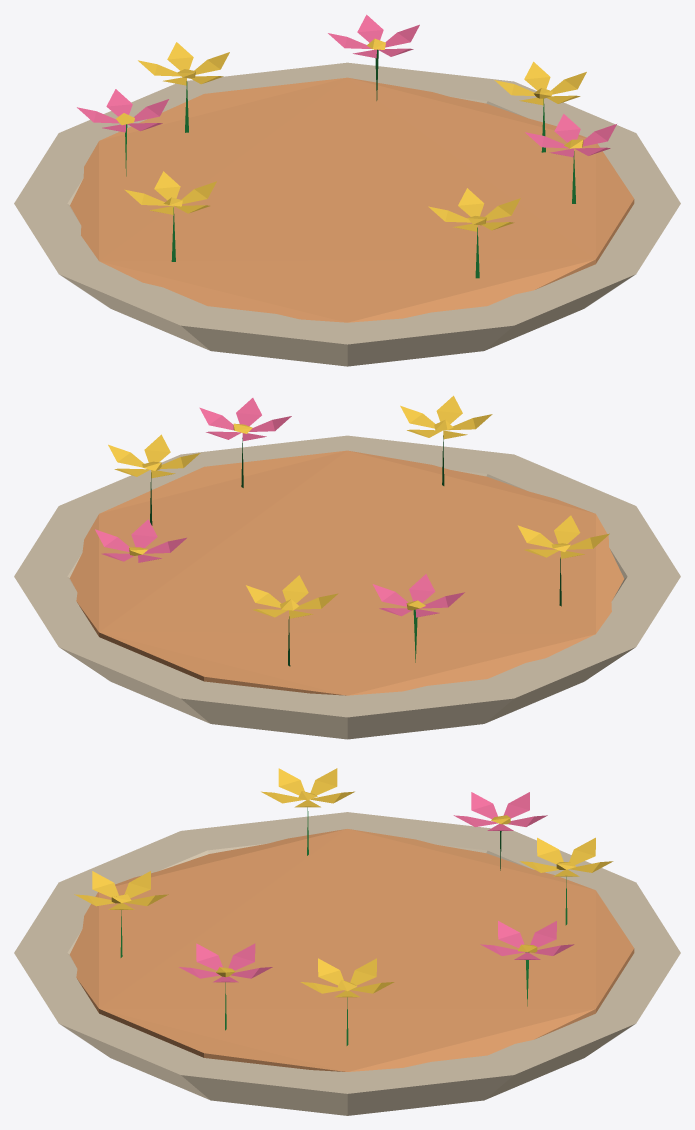
Rendered from flower_bed_round.fbx.
3 views of the same model, one above another, from view 1: azimuth 30°, elevation 25°; view 2: azimuth 150°, elevation 25°; view 3: azimuth 270°, elevation 25° (orthographic).
Visible parts, largest first — view 1: flower_bed_round; view 2: flower_bed_round; view 3: flower_bed_round.
Boxes of the visible parts, <box> form: flower_bed_round: <box>14,14,680,366</box>; flower_bed_round: <box>14,395,680,739</box>; flower_bed_round: <box>14,768,680,1115</box>.
Size of the model in its own units: 3 by 0.6 by 3.
